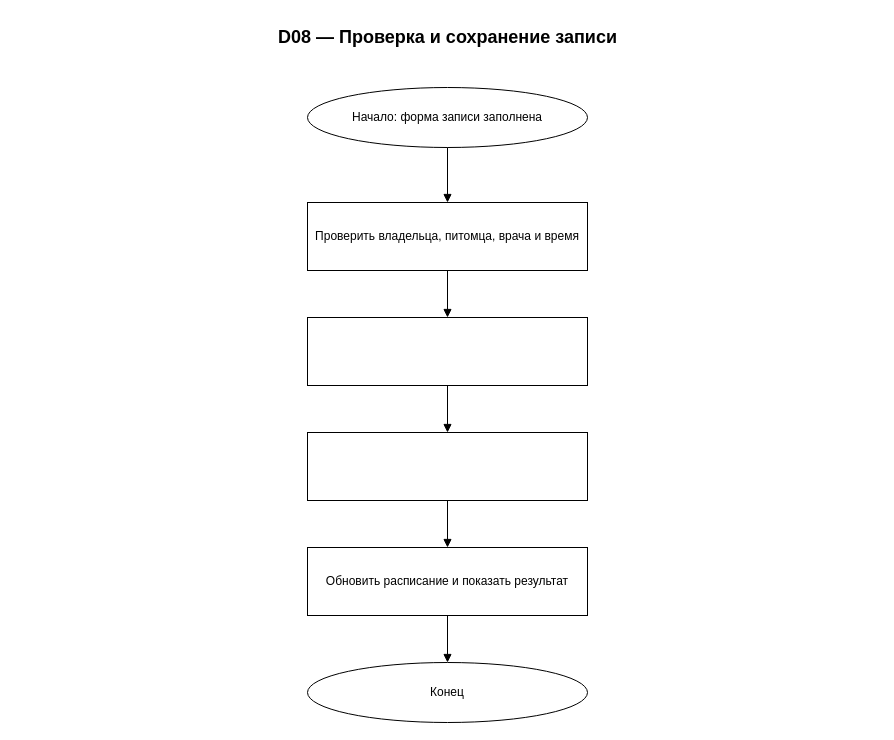
Some shapes in this 894 by 740 pixel diagram are drawn without their labels. The box of each missing label's shape, as (x1, y1, x2, y2) in pixels:
Проверить, что интервал свободен: (306, 316, 588, 386)
Сохранить запись в базе данных: (306, 432, 588, 500)
